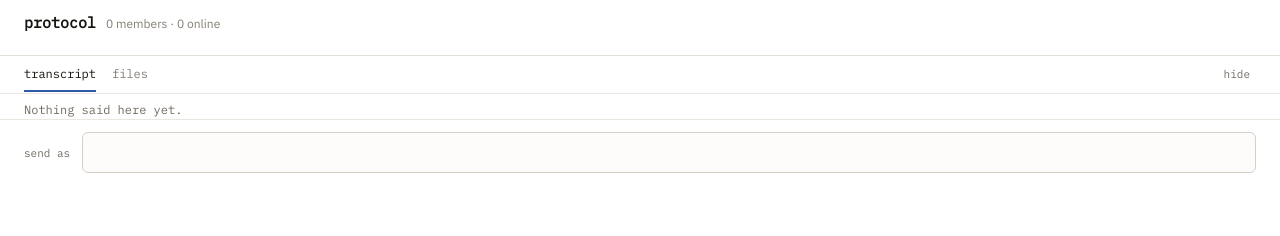
Test: a failed hide is surfaced near the control, not swallowed
Click the button "hide" at point(1237, 74), box [1218, 66, 1256, 82]
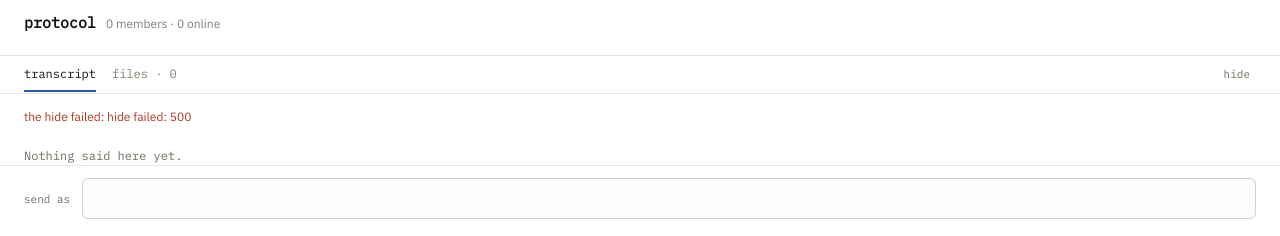
Result: the text "the hide failed: hide failed: 500" is shown at [24, 109, 191, 124]
